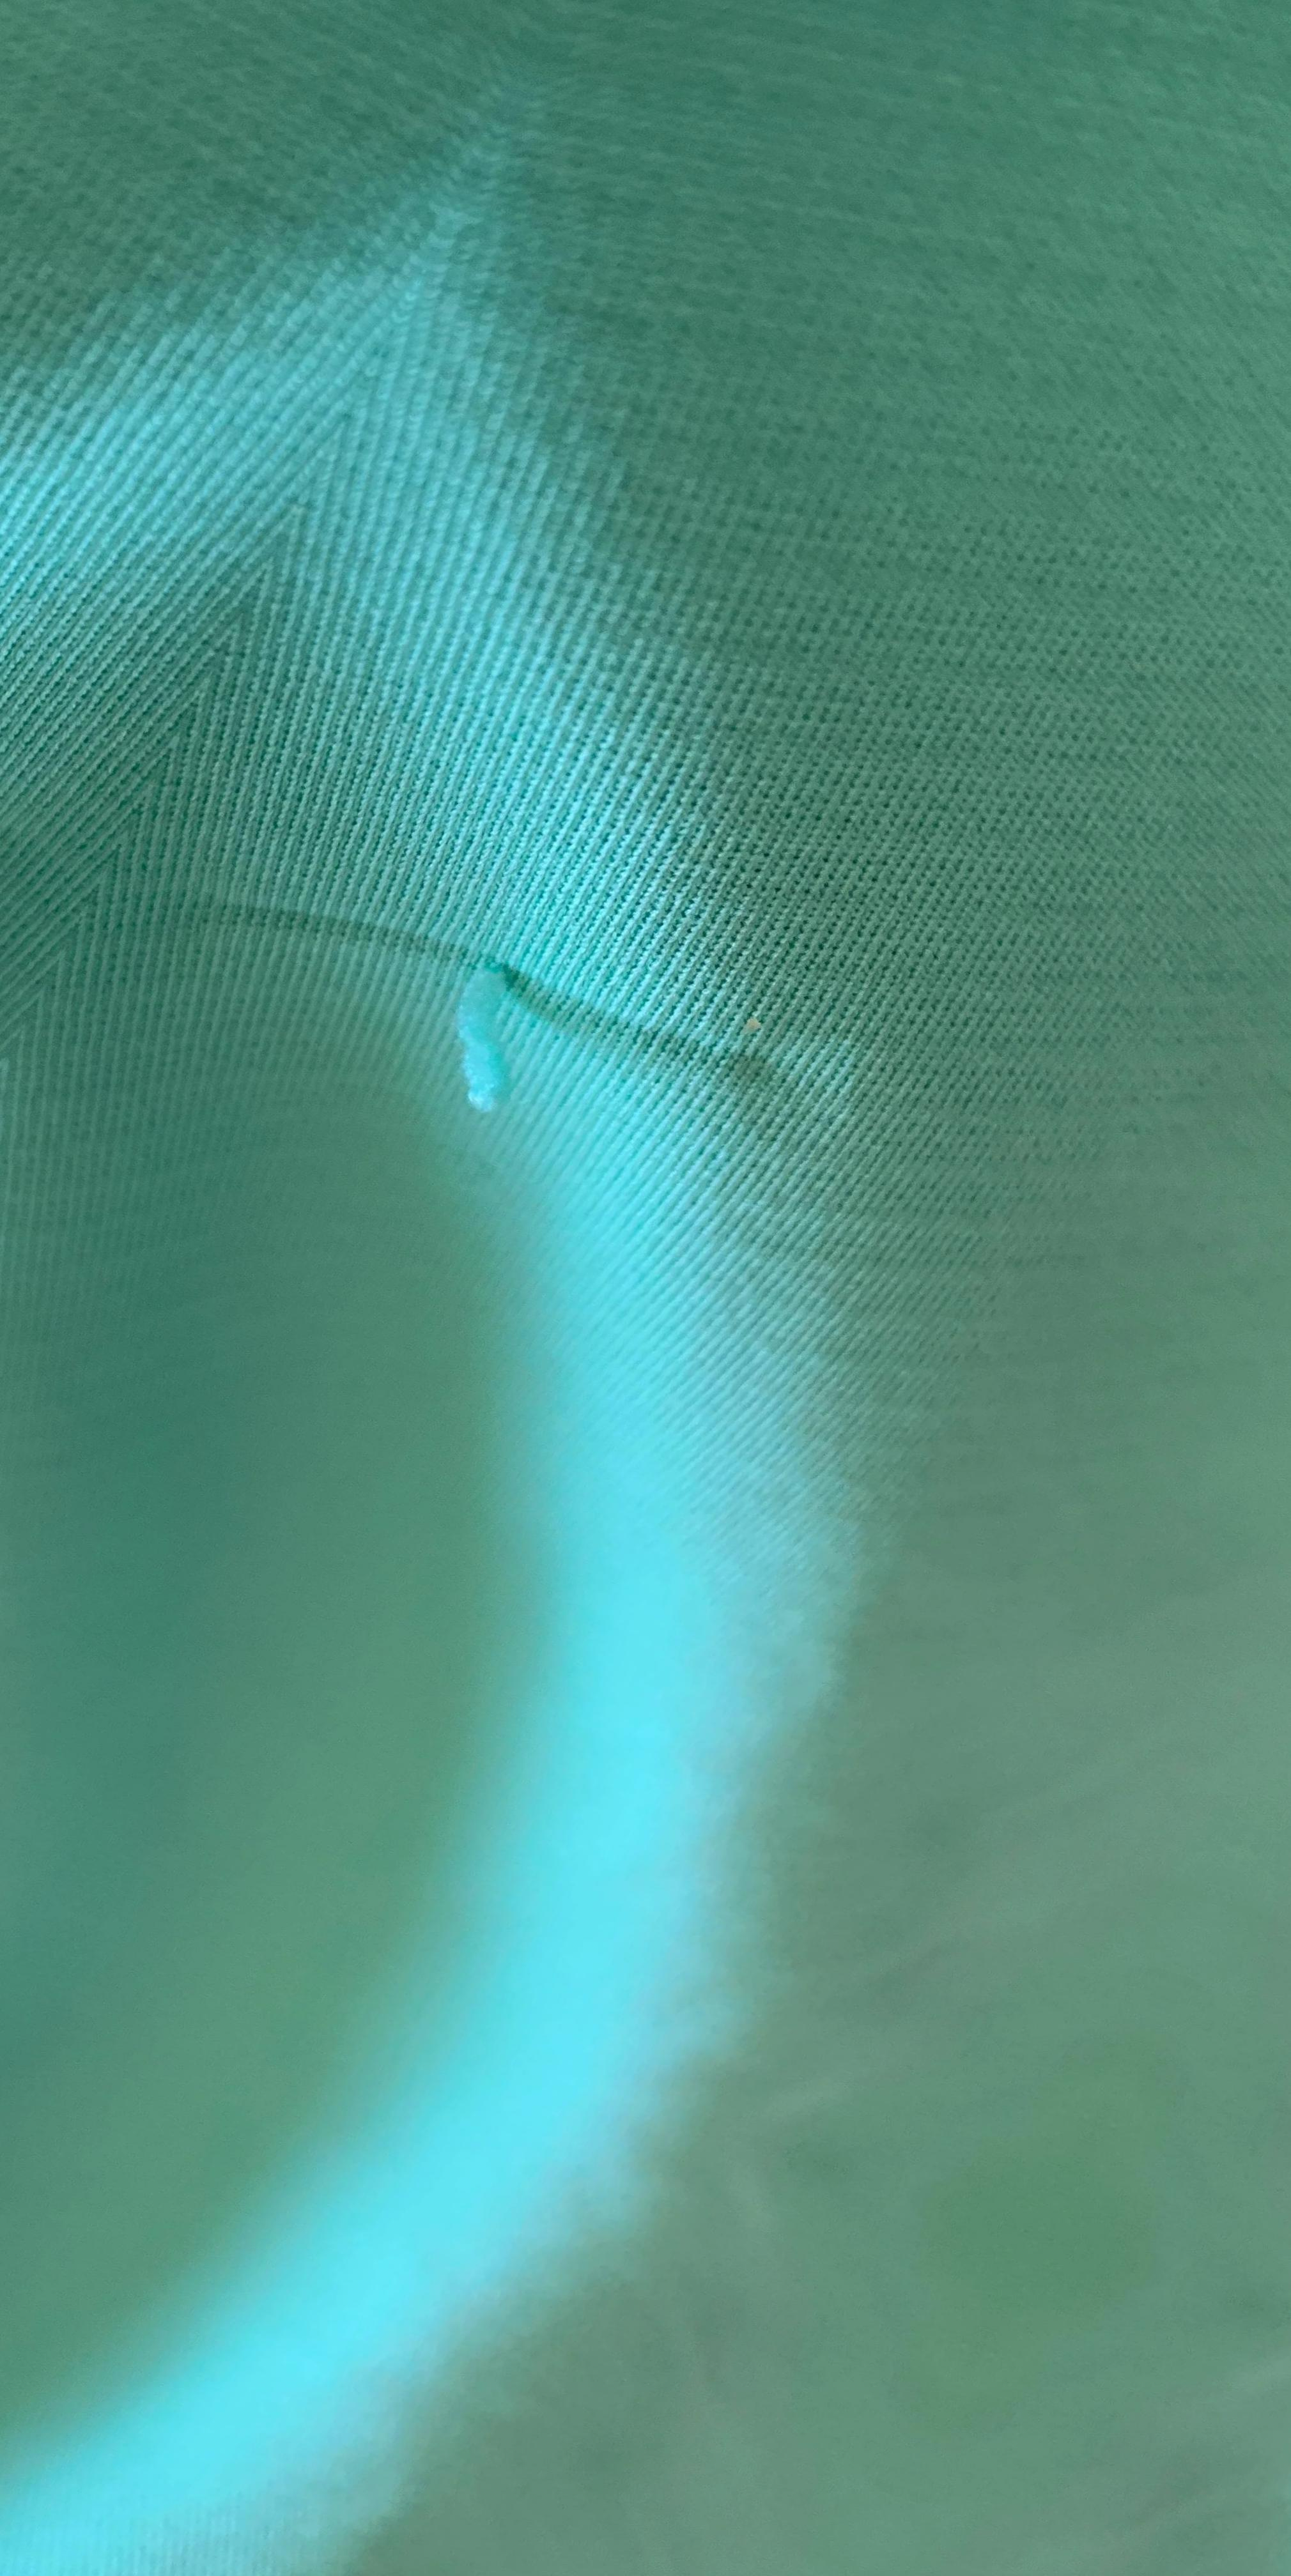snag: (380, 867, 596, 1197)
